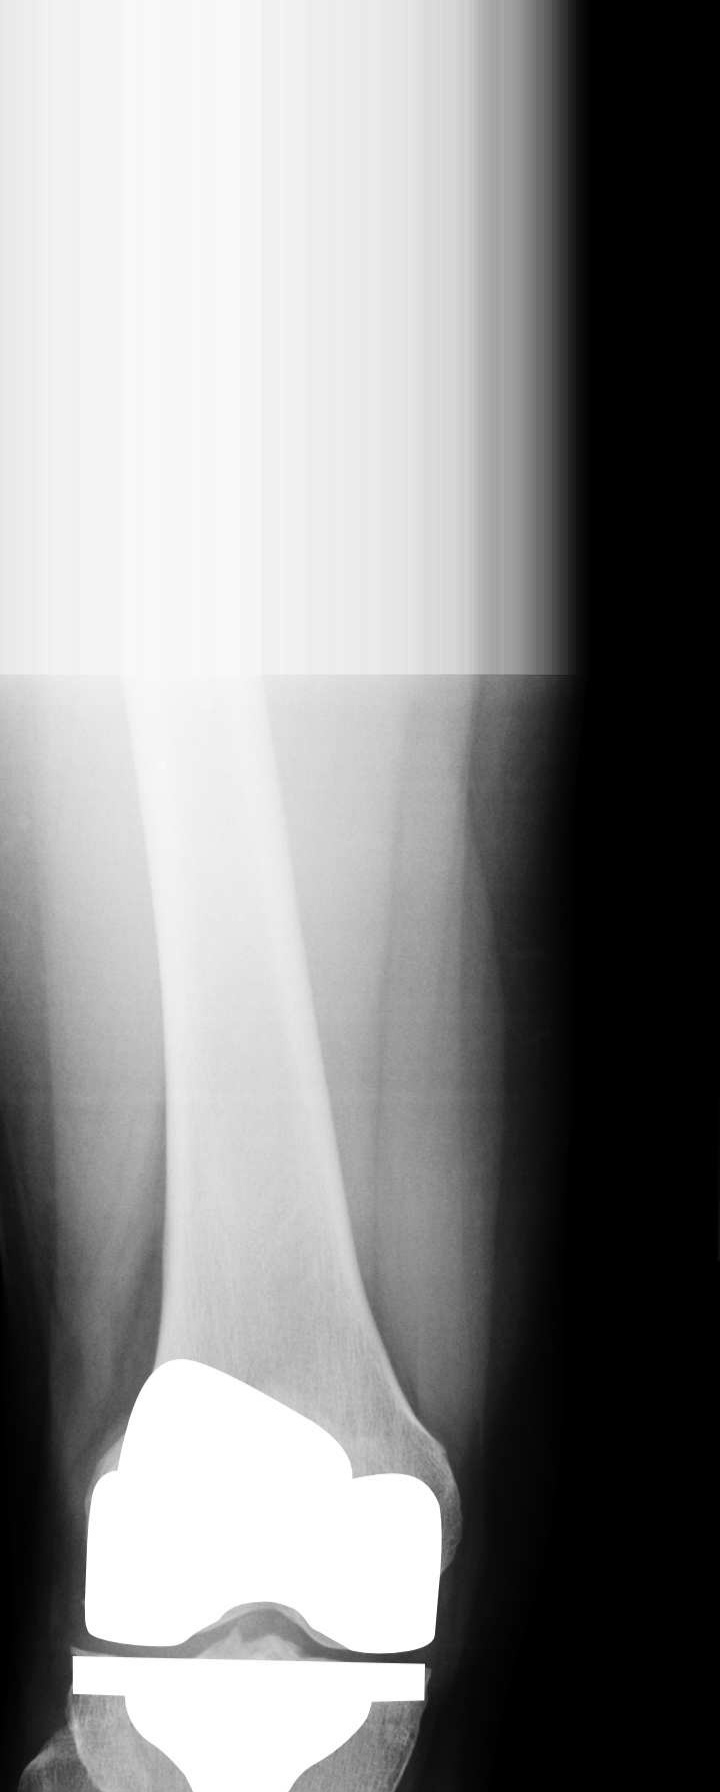Knee-Triathlon-Stryker: (61, 1349, 443, 1792)
